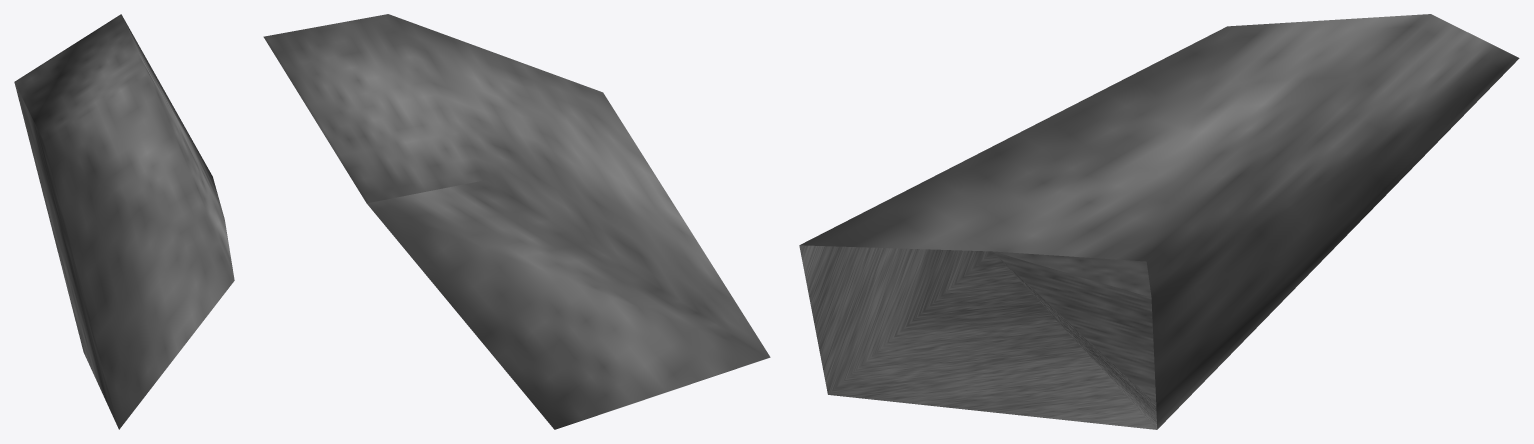
File: body_cell_059.fbx
The picture shows the model from 3 angles, left to right: view 1: azimuth 30°, elevation 25°; view 2: azimuth 150°, elevation 25°; view 3: azimuth 270°, elevation 25°; orthographic projection. The views are drawn at different scales.
Visible parts, largest first — view 1: body_cell.059; view 2: body_cell.059; view 3: body_cell.059.
Boxes of the visible parts, x1,y1,x2,y2 form: body_cell.059: (14,14,234,429); body_cell.059: (263,14,770,429); body_cell.059: (799,14,1519,429).
Size of the model in its own units: 6.22 by 9.13 by 11.24.
